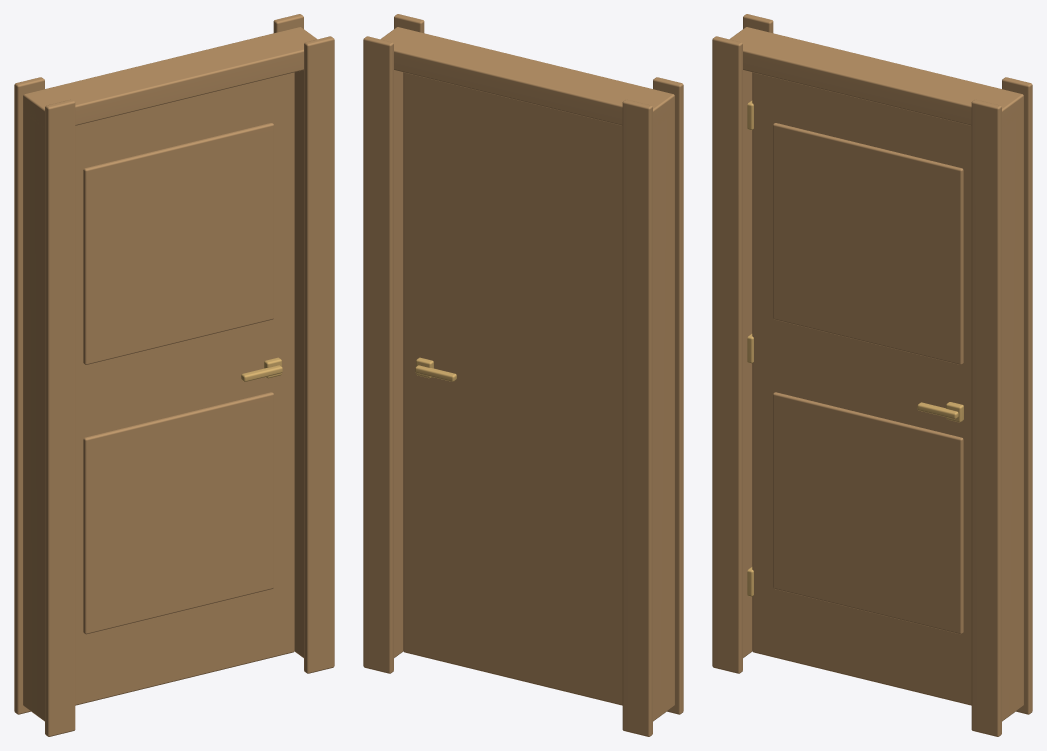
The model's file is door-shaker.glb.
3 views of the same model, side by side, from view 1: azimuth 30°, elevation 25°; view 2: azimuth 150°, elevation 25°; view 3: azimuth 330°, elevation 25° (orthographic).
Visible parts, largest first — view 1: Door leaf.005, Raised panel.008, Raised panel.009, Architrave.038, Architrave.036, Jamb.018, Lintel.009, Architrave.037, Jamb.019; view 2: Door leaf.005, Architrave.039, Architrave.037, Jamb.018, Lintel.009, Architrave.036, Jamb.019; view 3: Door leaf.005, Raised panel.008, Raised panel.009, Architrave.036, Architrave.038, Jamb.019, Lintel.009, Architrave.039, Jamb.018.
Boxes of the visible parts, x1,y1,x2,y2 form: Door leaf.005: [75, 72, 294, 705]; Raised panel.008: [83, 392, 273, 634]; Raised panel.009: [83, 123, 273, 364]; Architrave.038: [304, 36, 334, 673]; Architrave.036: [45, 99, 75, 736]; Jamb.018: [23, 95, 44, 721]; Lintel.009: [23, 27, 317, 127]; Architrave.037: [14, 77, 44, 714]; Jamb.019: [294, 70, 303, 657]; Door leaf.005: [403, 72, 622, 705]; Architrave.039: [363, 36, 393, 673]; Architrave.037: [622, 99, 652, 736]; Jamb.018: [653, 96, 674, 721]; Lintel.009: [380, 27, 674, 126]; Architrave.036: [653, 77, 683, 714]; Jamb.019: [394, 70, 403, 657]; Door leaf.005: [752, 72, 971, 705]; Raised panel.008: [773, 392, 963, 634]; Raised panel.009: [773, 123, 963, 364]; Architrave.036: [712, 36, 742, 673]; Architrave.038: [971, 99, 1001, 736]; Jamb.019: [1002, 96, 1023, 721]; Lintel.009: [729, 27, 1023, 126]; Architrave.039: [1002, 77, 1032, 714]; Jamb.018: [743, 70, 752, 657].
Bounding box in the file's own units: 1.03 × 2.16 × 0.215.
